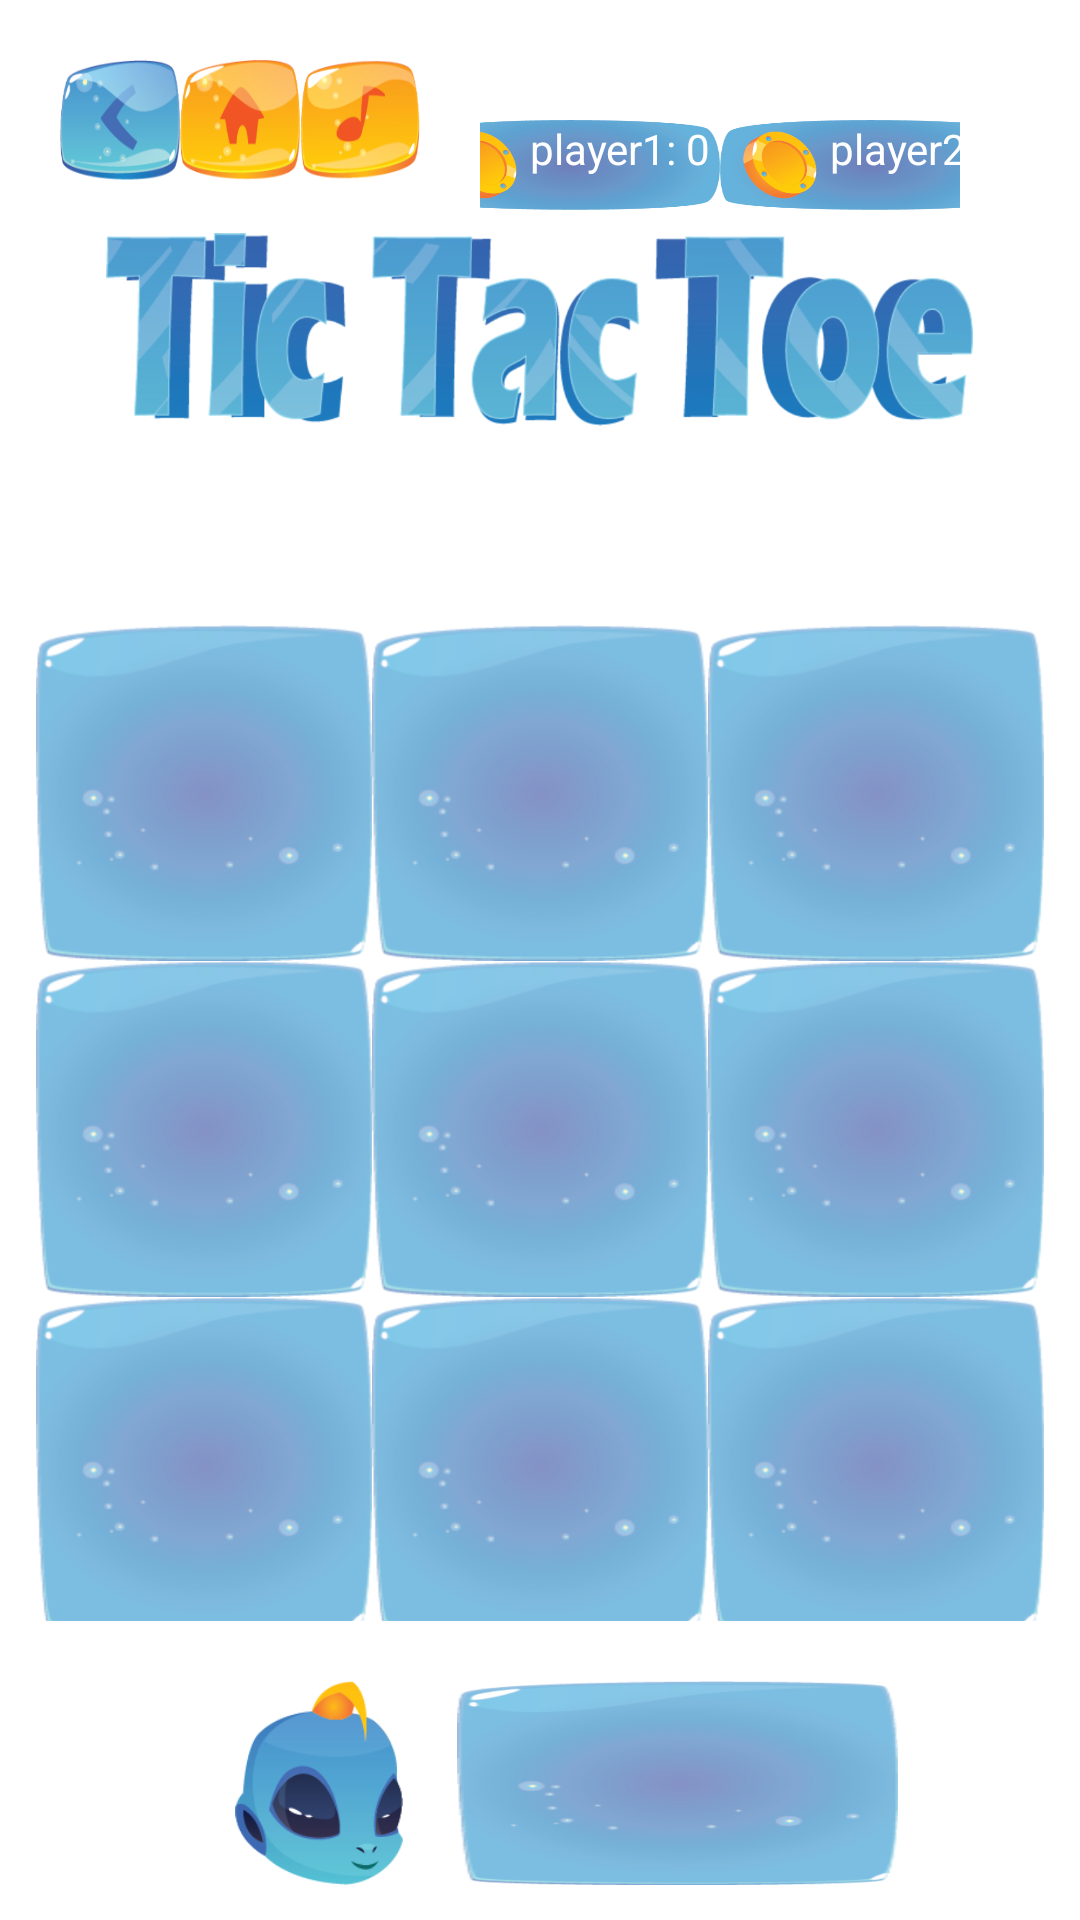

Where icons sit on this 1080*1920 app screen, as (x1, y1, x2, y2):
robot: (235, 1681, 403, 1885)
